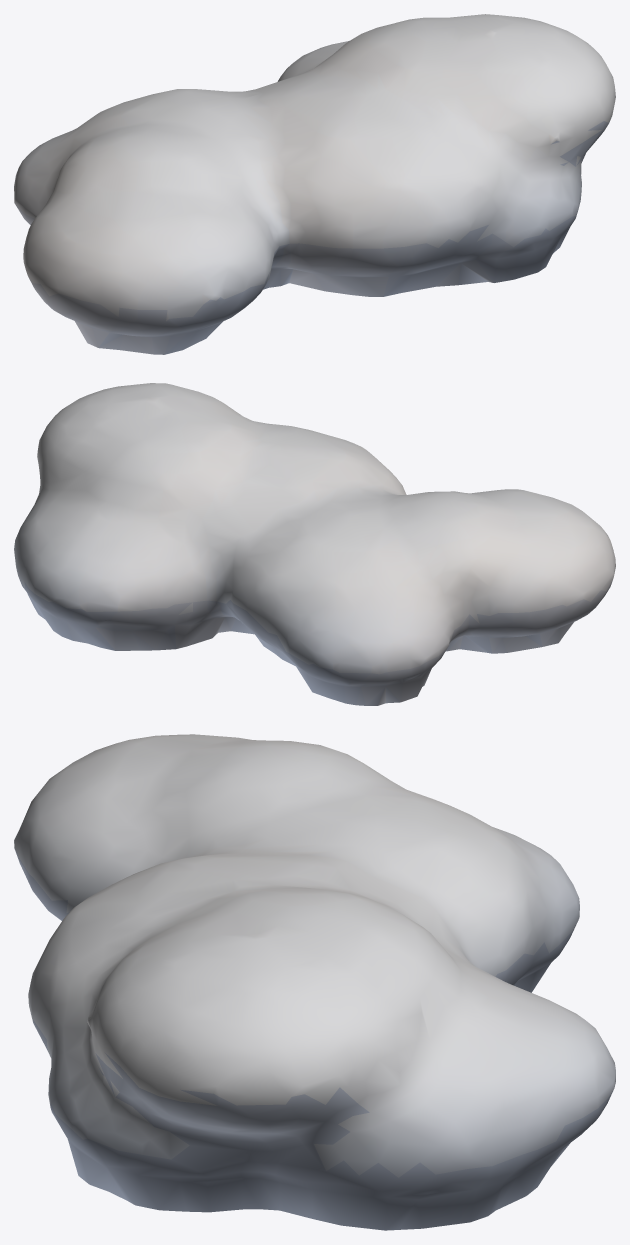
File: CloudB.glb
3 renders of one model, top to bottom at view 1: azimuth 30°, elevation 25°; view 2: azimuth 150°, elevation 25°; view 3: azimuth 270°, elevation 25°, orthographic. The views are drawn at different scales.
Visible parts, largest first — view 1: Cloud.001; view 2: Cloud.001; view 3: Cloud.001.
Part boxes in pixels (x1,y1,x2,y2): Cloud.001: [14, 14, 615, 354]; Cloud.001: [14, 383, 615, 705]; Cloud.001: [14, 734, 615, 1230].
Bounding box in the file's own units: 118 × 38.08 × 77.53.
